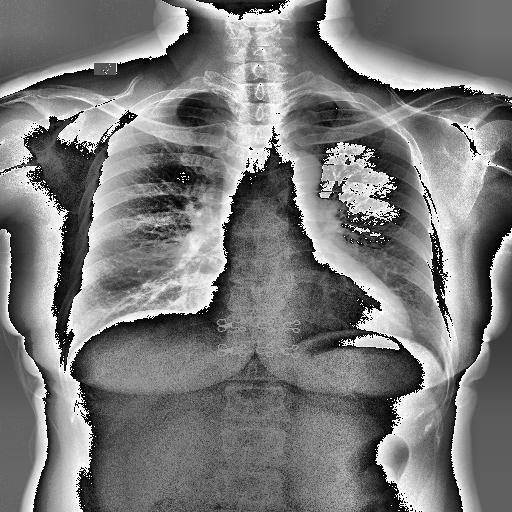0- Aortic enlargement: (263, 146, 323, 199), (264, 150, 321, 199), (262, 150, 320, 192)
11- Pleural thickening: (346, 100, 375, 116)
3- Cardiomegaly: (202, 280, 414, 343), (204, 284, 414, 342), (197, 290, 417, 344)
